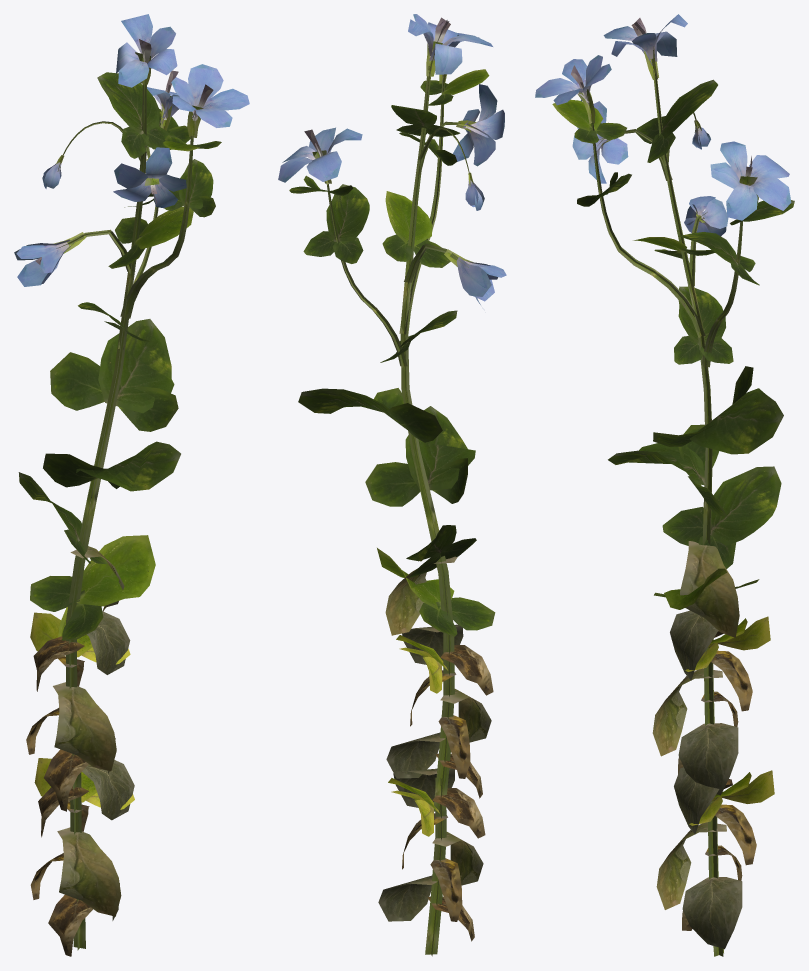
Rendered from Periwinkle_bush_short_lightblue.glb.
The picture shows the model from 3 angles, left to right: view 1: azimuth 30°, elevation 25°; view 2: azimuth 150°, elevation 25°; view 3: azimuth 270°, elevation 25°; orthographic projection. The views are drawn at different scales.
Visible parts, largest first — view 1: _419c_Var3_LOD1.2; view 2: _419c_Var3_LOD1.2; view 3: _419c_Var3_LOD1.2.
Boxes of the visible parts, x1,y1,x2,y2 form: _419c_Var3_LOD1.2: [14, 14, 249, 956]; _419c_Var3_LOD1.2: [278, 14, 506, 956]; _419c_Var3_LOD1.2: [535, 14, 794, 956].
Bounding box in the file's own units: 0.6129 × 2.59 × 0.6394.
Materials: 1 (1 with a texture image).
